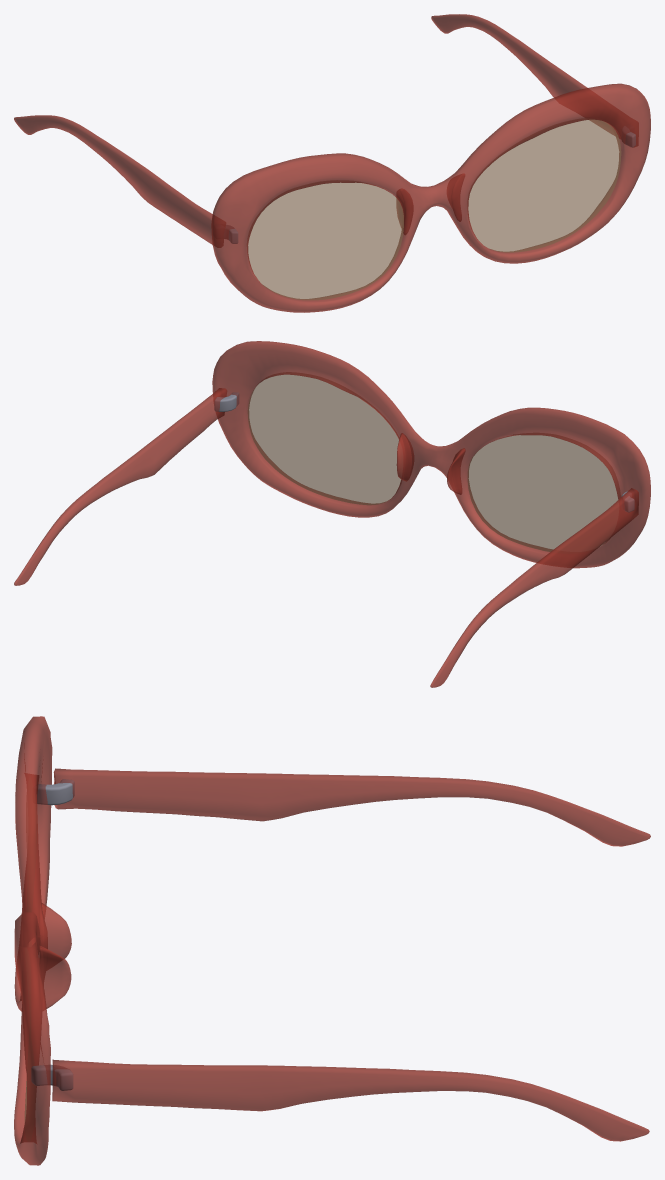
The model's file is cherry.glb.
The picture shows the model from 3 angles, top to bottom: view 1: azimuth 30°, elevation 25°; view 2: azimuth 150°, elevation 25°; view 3: azimuth 270°, elevation 25°; orthographic projection. The views are drawn at different scales.
Parts seen in each view (by area): view 1: model_8.001; view 2: model_8.001; view 3: model_8.001.
Boxes of the visible parts, <box> form: model_8.001: <box>14,14,650,312</box>; model_8.001: <box>14,341,650,687</box>; model_8.001: <box>14,716,650,1165</box>.
Bounding box in the file's own units: 2.21 × 0.7584 × 1.92.
